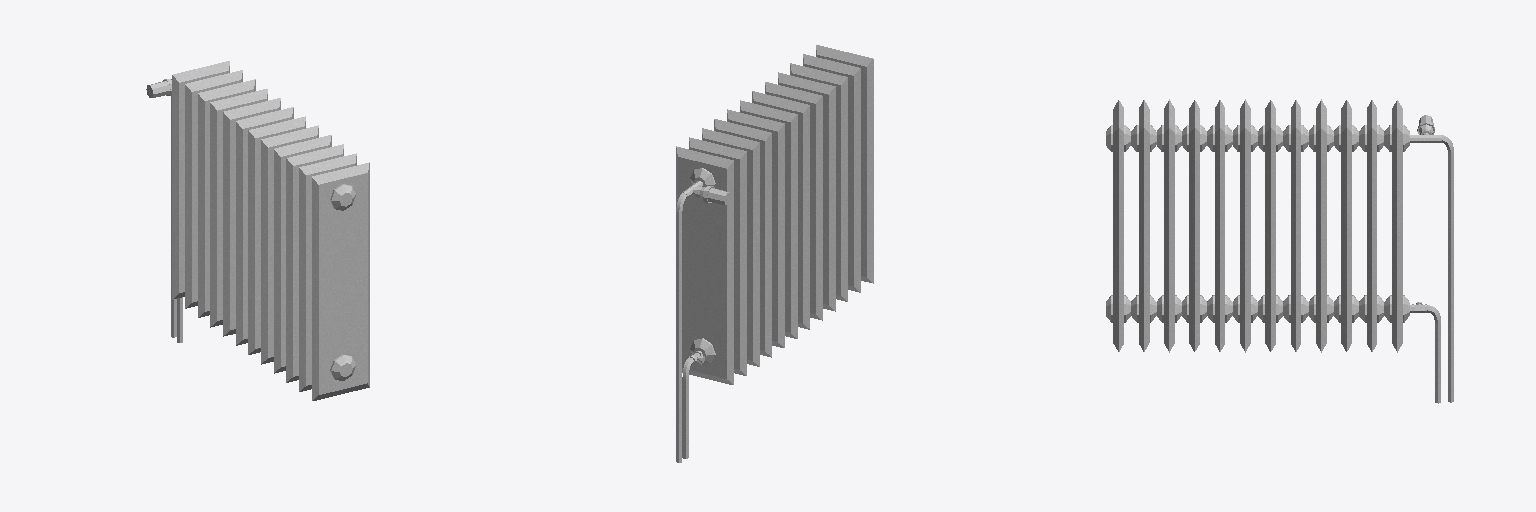
The picture shows the model from 3 angles: view 1: azimuth 30°, elevation 25°; view 2: azimuth 150°, elevation 25°; view 3: azimuth 270°, elevation 25°; orthographic projection.
Visible parts, largest first — view 1: Cube.001_Cube.000, BezierCurve_Mesh.001; view 2: Cube.001_Cube.000, BezierCurve_Mesh.001; view 3: Cube.001_Cube.000, BezierCurve_Mesh.001.
Boxes of the visible parts, box(x1,y1,x2,y2) form: Cube.001_Cube.000: box(172, 61, 369, 400); BezierCurve_Mesh.001: box(146, 79, 182, 342); Cube.001_Cube.000: box(676, 45, 873, 384); BezierCurve_Mesh.001: box(676, 181, 730, 462); Cube.001_Cube.000: box(1106, 99, 1409, 352); BezierCurve_Mesh.001: box(1410, 115, 1453, 403).
Size of the model in its own units: 2.61 by 10.92 by 11.93.
Materials: 2 (1 with a texture image).